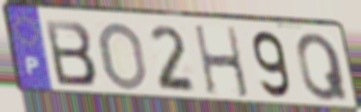2: (152, 24, 199, 94)
9: (250, 30, 292, 100)
B: (42, 18, 100, 88)
H: (192, 24, 252, 101)
O: (98, 20, 150, 93)
Q: (294, 31, 351, 104)
